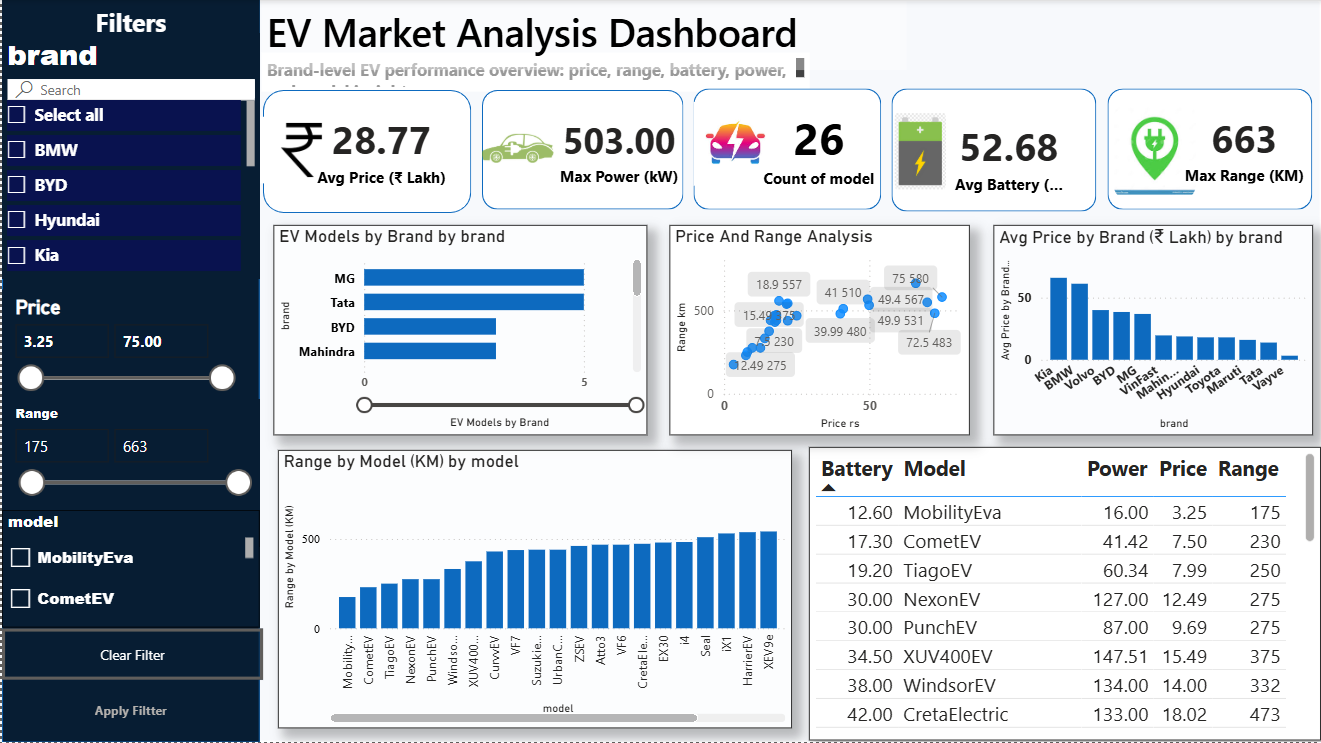

The page's visual inventory and layout, read from the dashboard file:
{"tool":"powerbi","page":{"name":"Page 1","canvas":[1280,720],"ordinal":0},"visuals":[{"type":"textbox","box":[251.8,51.4,531.7,38.1],"z":0},{"type":"shape","box":[0,0,250.1,720.6],"z":1000},{"type":"shape","box":[253.4,87.8,202.1,119.3],"z":2000},{"type":"clusteredBarChart","fields":{"Category":["car_cleaned.brand"],"Y":["CountNonNull(car_cleaned.model)"]},"box":[263.4,218.7,362.8,203.7],"z":3000},{"type":"columnChart","fields":{"Category":["car_cleaned.brand"],"Y":["Avg(car_cleaned.price)"]},"box":[962.4,218.7,309.8,203.7],"z":4000},{"type":"clusteredColumnChart","fields":{"Category":["car_cleaned.model"],"Y":["Median(car_cleaned.range)"]},"box":[268.3,437.3,498.6,270],"z":5000},{"type":"textbox","box":[251.8,0,626.1,67.9],"z":6000},{"type":"listSlicer","fields":{"Values":["car_cleaned.brand"]},"box":[0,31.5,250.1,238.5],"z":7000},{"type":"tableEx","fields":{"Values":["car_cleaned.battery","car_cleaned.model","car_cleaned.power","car_cleaned.price","car_cleaned.range"]},"box":[783.5,434,496.9,284.9],"z":8000},{"type":"textbox","box":[0,0,250.1,44.7],"z":9000},{"type":"image","box":[250.7,94.5,79.1,102.2],"z":10000},{"type":"card","fields":{"Values":["Avg(car_cleaned.price)"]},"box":[291.2,96.4,154.3,98.4],"z":11000},{"type":"shape","box":[465.5,87.8,195.5,116],"z":12000},{"type":"image","box":[465.5,86.1,69.6,116],"z":13000},{"type":"card","fields":{"Values":["Max(car_cleaned.power)"]},"box":[535,87.8,125.9,116],"z":14000},{"type":"shape","box":[1073.4,86.1,198.8,117.6],"z":15000},{"type":"shape","box":[863,86.1,198.8,119.3],"z":16000},{"type":"shape","box":[670.9,86.1,182.2,117.6],"z":17000},{"type":"image","box":[670.9,81.2,81.2,116],"z":18000},{"type":"card","fields":{"Values":["CountNonNull(car_cleaned.model)"]},"box":[722.2,96.1,140.8,92.8],"z":19000},{"type":"image","box":[866.3,101,49.7,92.8],"z":20000},{"type":"card","fields":{"Values":["Avg(car_cleaned.battery)"]},"box":[916,104.4,122.6,92.8],"z":21000},{"type":"image","box":[1078.6,97.5,80.1,97.5],"z":22000},{"type":"card","fields":{"Values":["Max(car_cleaned.range)"]},"box":[1138,102.7,134.2,79.5],"z":23000},{"type":"slicer","fields":{"Values":["car_cleaned.price"]},"box":[0,281.6,235.2,155.7],"z":24000},{"type":"slicer","fields":{"Values":["car_cleaned.range"]},"box":[0,387.6,250.1,142.5],"z":25000},{"type":"listSlicer","fields":{"Values":["car_cleaned.model"]},"box":[0,495.3,250.1,114.3],"z":26000},{"type":"actionButton","box":[0,659.3,250.1,59.6],"z":27000},{"type":"actionButton","box":[0,609.6,253.4,49.7],"z":28000},{"type":"scatterChart","title":"Price And Range Analysis","fields":{"X":["car_cleaned.price"],"Y":["car_cleaned.range"]},"box":[647.7,218.7,291.5,203.7],"z":29000}]}

Visuals, with their boxes on the page's 1280x720 design canvas (x1, y1, x2, y2). These are canvas units, not pixel positions in the 1321x743 screenshot, which may show the page scaled, cropped or inside an application window:
textbox: [252, 51, 784, 90]
shape: [0, 0, 250, 721]
shape: [253, 88, 456, 207]
clusteredBarChart - car_cleaned.brand x CountNonNull(car_cleaned.model): [263, 219, 626, 422]
columnChart - car_cleaned.brand x Avg(car_cleaned.price): [962, 219, 1272, 422]
clusteredColumnChart - car_cleaned.model x Median(car_cleaned.range): [268, 437, 767, 707]
textbox: [252, 0, 878, 68]
listSlicer - car_cleaned.brand: [0, 32, 250, 270]
tableEx - car_cleaned.battery x car_cleaned.model: [784, 434, 1280, 719]
textbox: [0, 0, 250, 45]
image: [251, 94, 330, 197]
card - Avg(car_cleaned.price): [291, 96, 446, 195]
shape: [466, 88, 661, 204]
image: [466, 86, 535, 202]
card - Max(car_cleaned.power): [535, 88, 661, 204]
shape: [1073, 86, 1272, 204]
shape: [863, 86, 1062, 205]
shape: [671, 86, 853, 204]
image: [671, 81, 752, 197]
card - CountNonNull(car_cleaned.model): [722, 96, 863, 189]
image: [866, 101, 916, 194]
card - Avg(car_cleaned.battery): [916, 104, 1039, 197]
image: [1079, 98, 1159, 195]
card - Max(car_cleaned.range): [1138, 103, 1272, 182]
slicer - car_cleaned.price: [0, 282, 235, 437]
slicer - car_cleaned.range: [0, 388, 250, 530]
listSlicer - car_cleaned.model: [0, 495, 250, 610]
actionButton: [0, 659, 250, 719]
actionButton: [0, 610, 253, 659]
"Price And Range Analysis" scatterChart: [648, 219, 939, 422]
